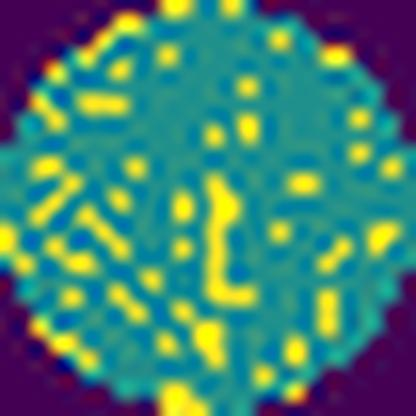Scratch: (194, 168, 261, 316)
